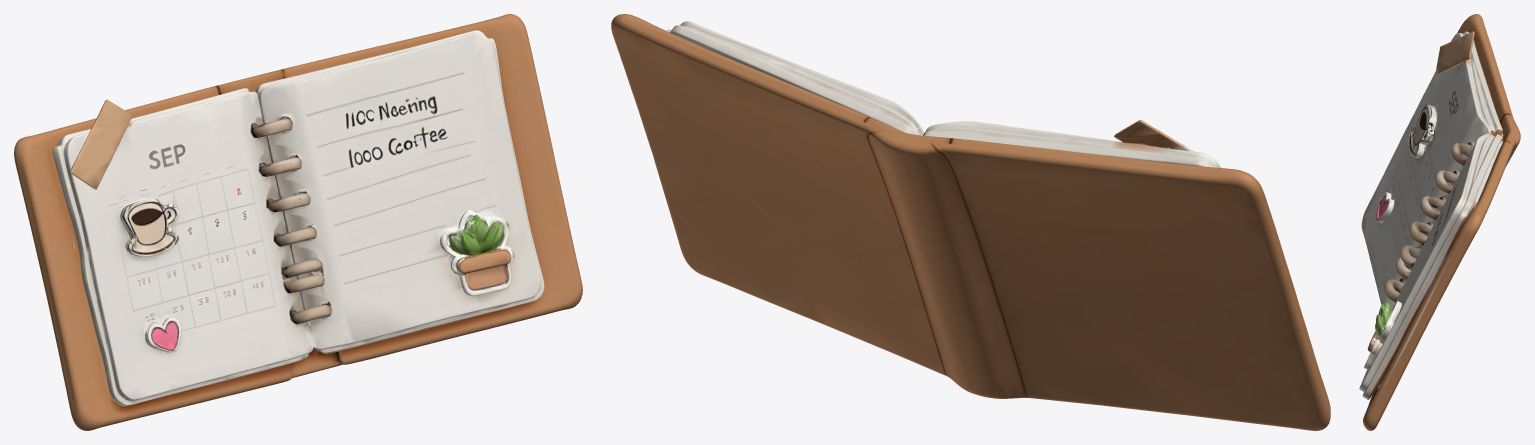
File: 手帐本.glb
3 renders of one model, left to right at view 1: azimuth 30°, elevation 25°; view 2: azimuth 150°, elevation 25°; view 3: azimuth 270°, elevation 25°, orthographic. The views are drawn at different scales.
Parts seen in each view (by area): view 1: node_0; view 2: node_0; view 3: node_0.
Boxes of the visible parts, x1,y1,x2,y2 form: node_0: (14,14,582,430); node_0: (611,14,1330,430); node_0: (1359,14,1520,430).
Size of the model in its own units: 1.08 by 0.5732 by 0.3407.
1 material, 1 textured.
